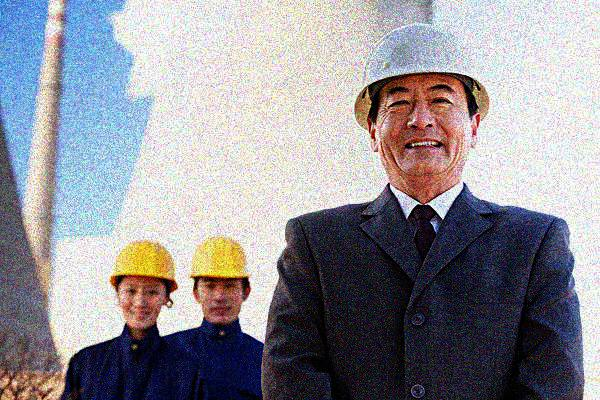helmet: (349, 23, 493, 185), (108, 237, 177, 330), (186, 234, 252, 326)
